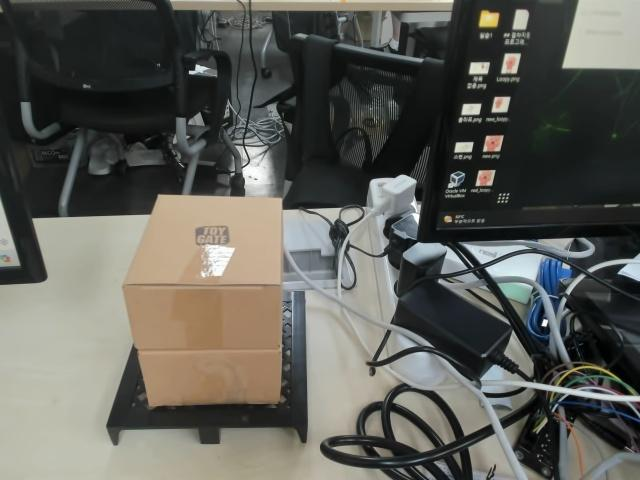box: (105, 193, 313, 445)
